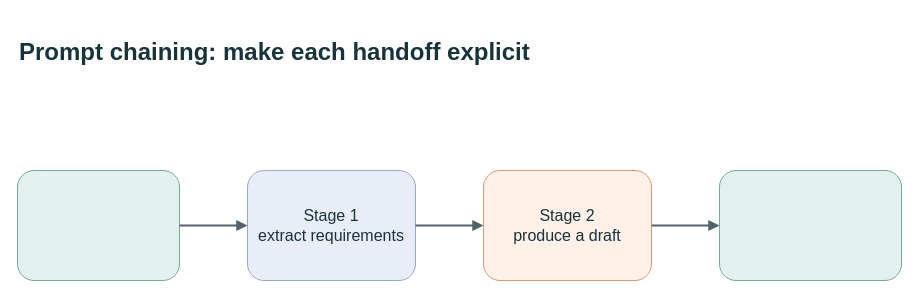
Image size: 919x298. Some labels were removed from this diagram. Each missing label, with the box of its shape:
Stage 3 validate and return: (718, 170, 902, 280)
Task request + context: (16, 170, 180, 280)
